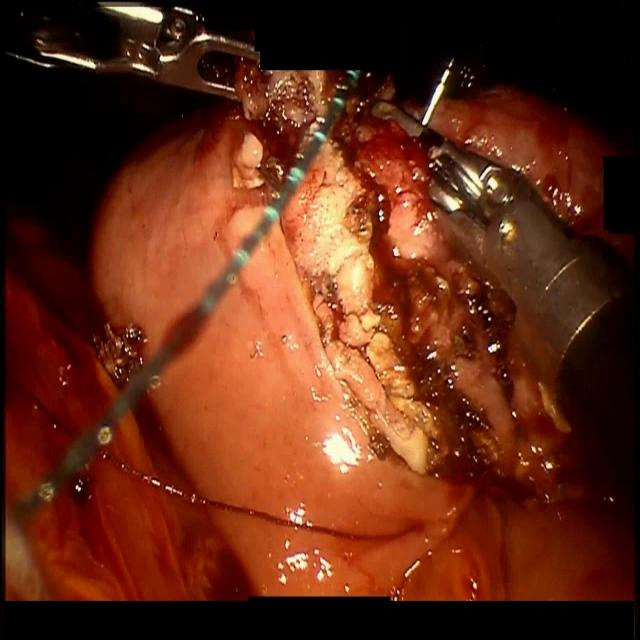surgical-area: (2, 50, 636, 604)
surgical-tool: (368, 96, 637, 497), (0, 0, 262, 102)
